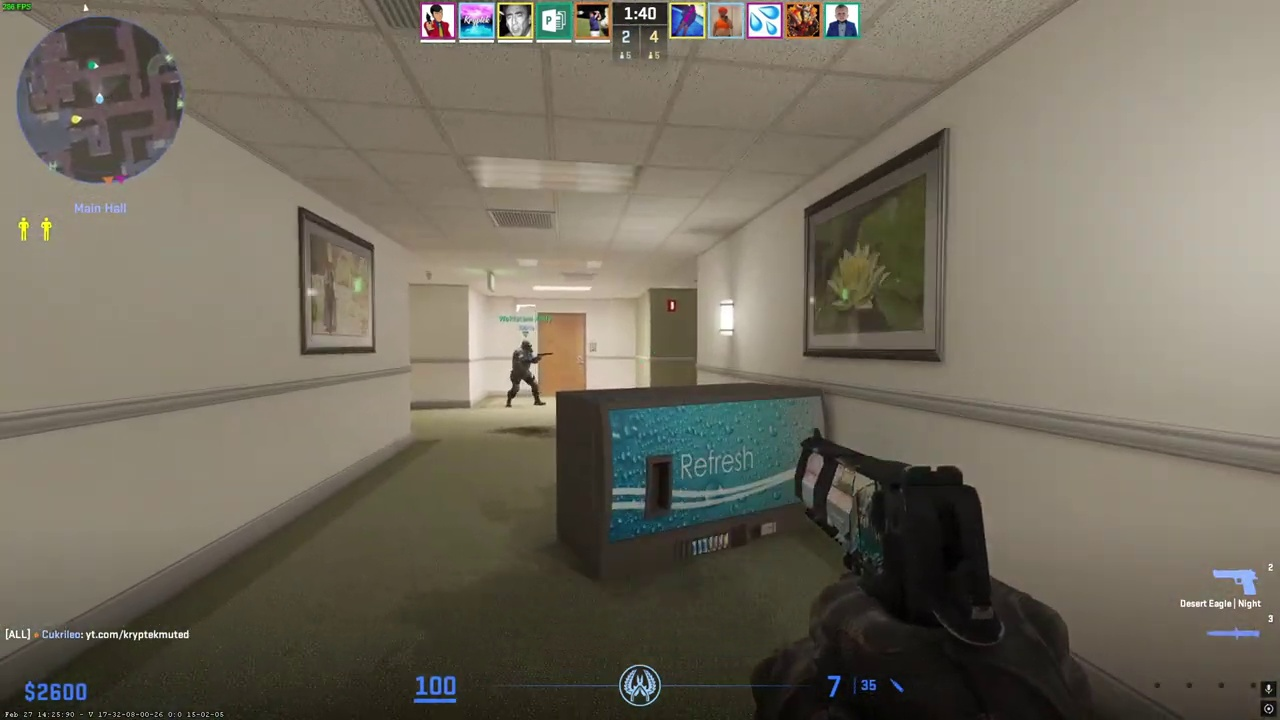CT: (507, 341, 543, 406)
